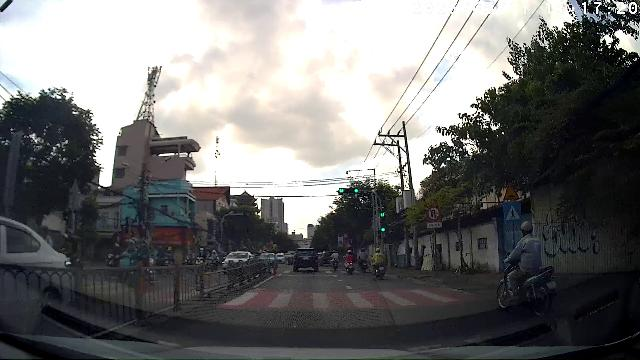124b-cam-oto-quay-dau-xe: (426, 206, 440, 222)
423a-duong-nguoi-di-bo-sang-ngang-1: (504, 202, 522, 221)
